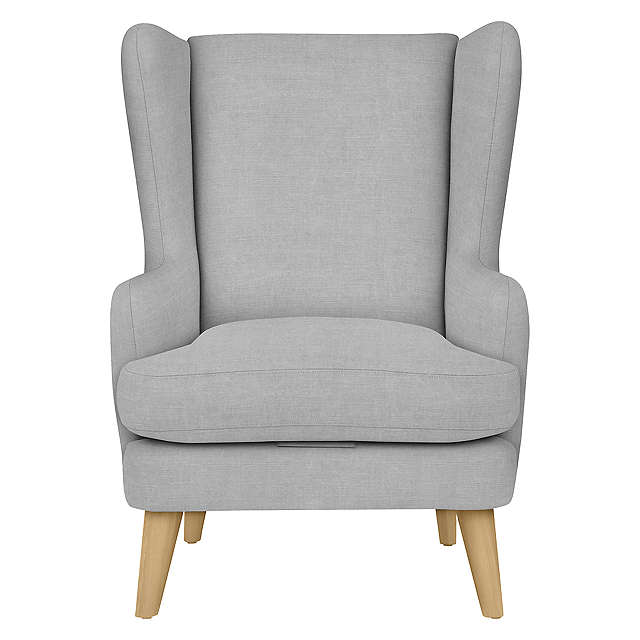chairs: (102, 17, 533, 622)
